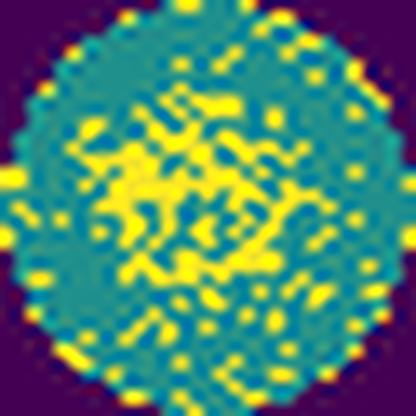Donut: (62, 77, 339, 316)
